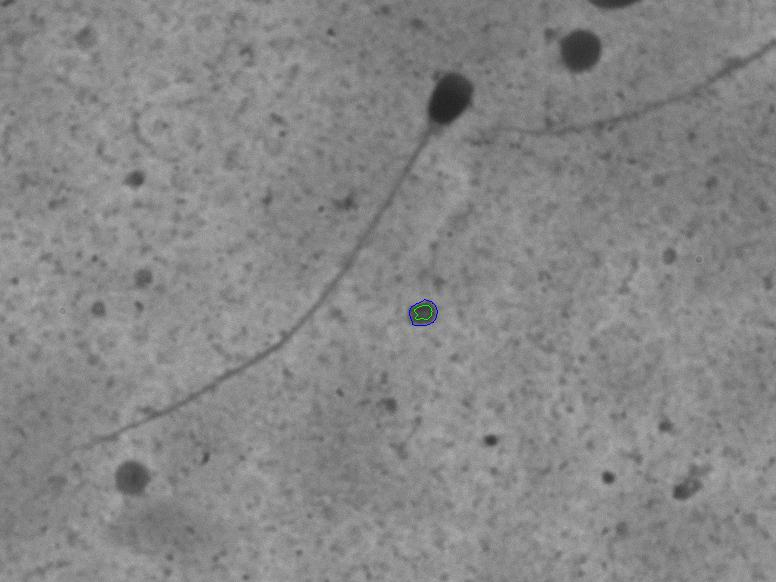Normal: (47, 58, 485, 473)
